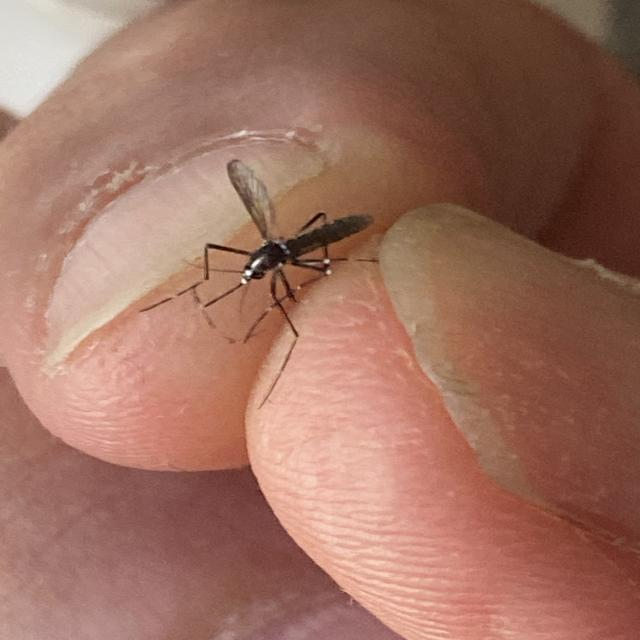albopictus: (135, 147, 396, 380)
